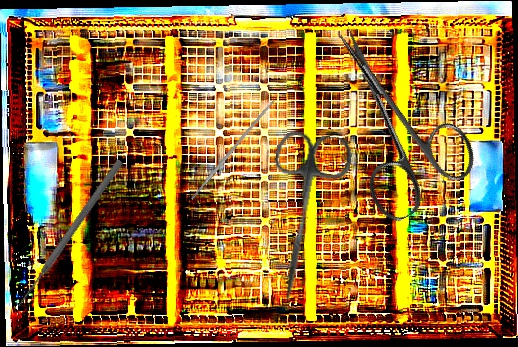Iris Scissors: (292, 3, 487, 228), (253, 128, 355, 307)
Pusher: (14, 157, 125, 310)
Scalpel Handle: (189, 98, 276, 201)
